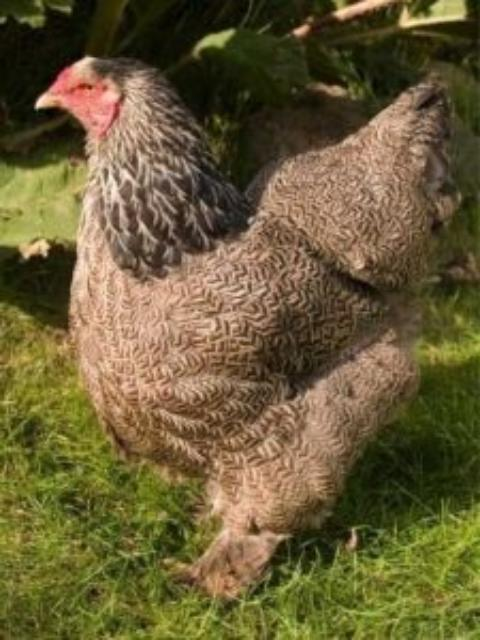Chicken: (35, 54, 450, 583)
